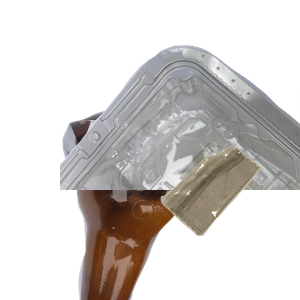glass: (60, 120, 300, 300)
metal: (60, 79, 300, 259)
plastic: (60, 43, 300, 223)
trash: (158, 144, 300, 300)
